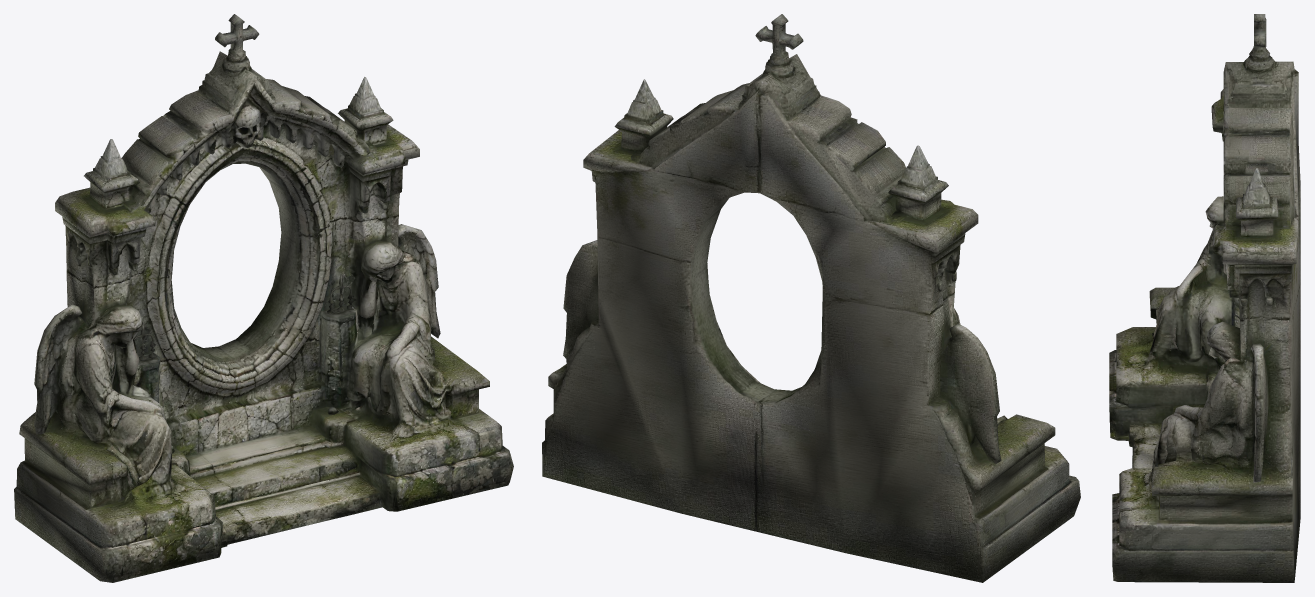
Rendered from selected.glb.
3 renders of one model, left to right at view 1: azimuth 30°, elevation 25°; view 2: azimuth 150°, elevation 25°; view 3: azimuth 270°, elevation 25°, orthographic. The views are drawn at different scales.
Parts seen in each view (by area): view 1: tripo_node_f326db91-a6c3-47b3-871e-820c3548738d; view 2: tripo_node_f326db91-a6c3-47b3-871e-820c3548738d; view 3: tripo_node_f326db91-a6c3-47b3-871e-820c3548738d.
Part boxes in pixels (left/top/right/bottom): tripo_node_f326db91-a6c3-47b3-871e-820c3548738d: left=14, top=14, right=513, bottom=582; tripo_node_f326db91-a6c3-47b3-871e-820c3548738d: left=542, top=14, right=1080, bottom=582; tripo_node_f326db91-a6c3-47b3-871e-820c3548738d: left=1109, top=14, right=1300, bottom=582.
Size of the model in its own units: 0.9238 by 0.998 by 0.3691.
Materials: 1 (1 with a texture image).
